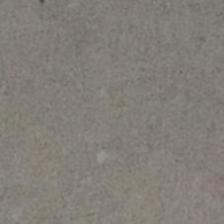Non_Crack: (41, 18, 224, 224)
